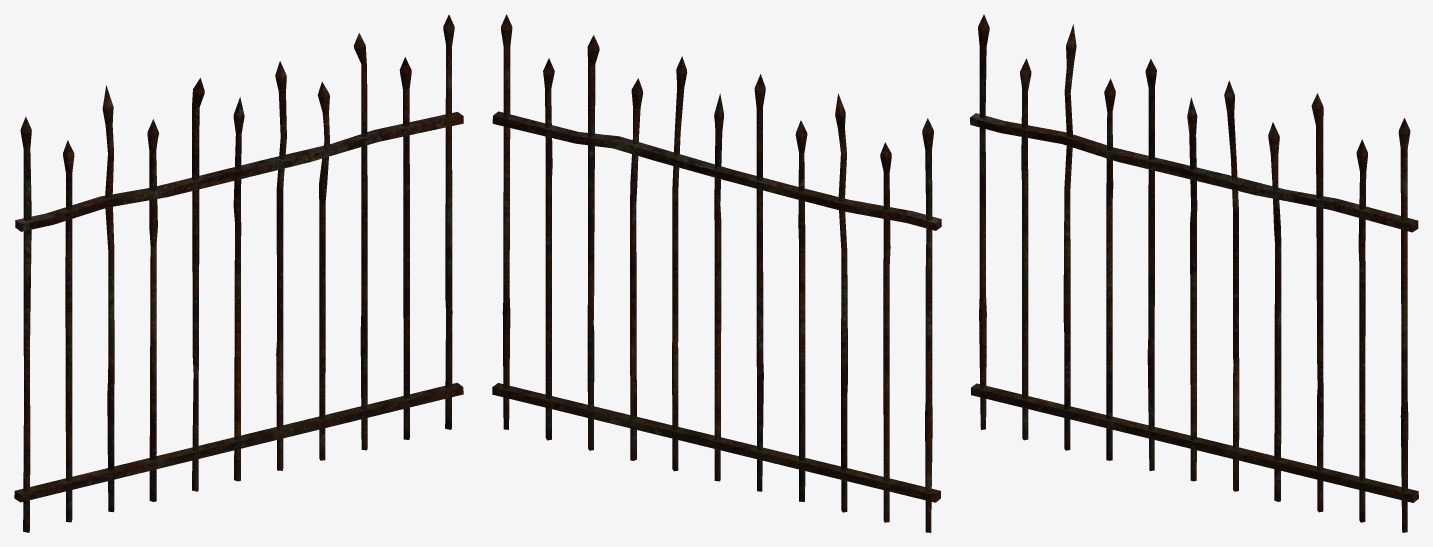
The model's file is SM_fence_29.fbx.
3 views of the same model, side by side, from view 1: azimuth 30°, elevation 25°; view 2: azimuth 150°, elevation 25°; view 3: azimuth 330°, elevation 25° (orthographic).
Parts seen in each view (by area): view 1: SM_fence_29; view 2: SM_fence_29; view 3: SM_fence_29.
Boxes of the visible parts, x1,y1,x2,y2 form: SM_fence_29: [14, 14, 463, 532]; SM_fence_29: [492, 14, 941, 532]; SM_fence_29: [970, 14, 1418, 532].
Bounding box in the file's own units: 341 × 310 × 16.81.
